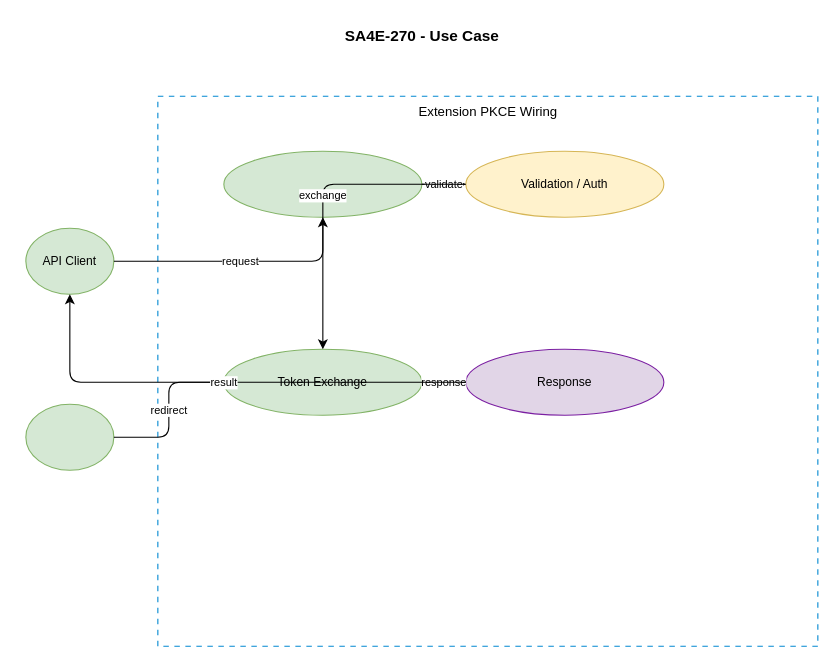
Image size: 837x666. Some labels were removed from this diagram. The centre of each missing label's shape, as x and y in pixels:
"Extension PKCE Wiring Flow" belongs at (x=322, y=183).
"Extension/Browser" belongs at (x=69, y=436).
